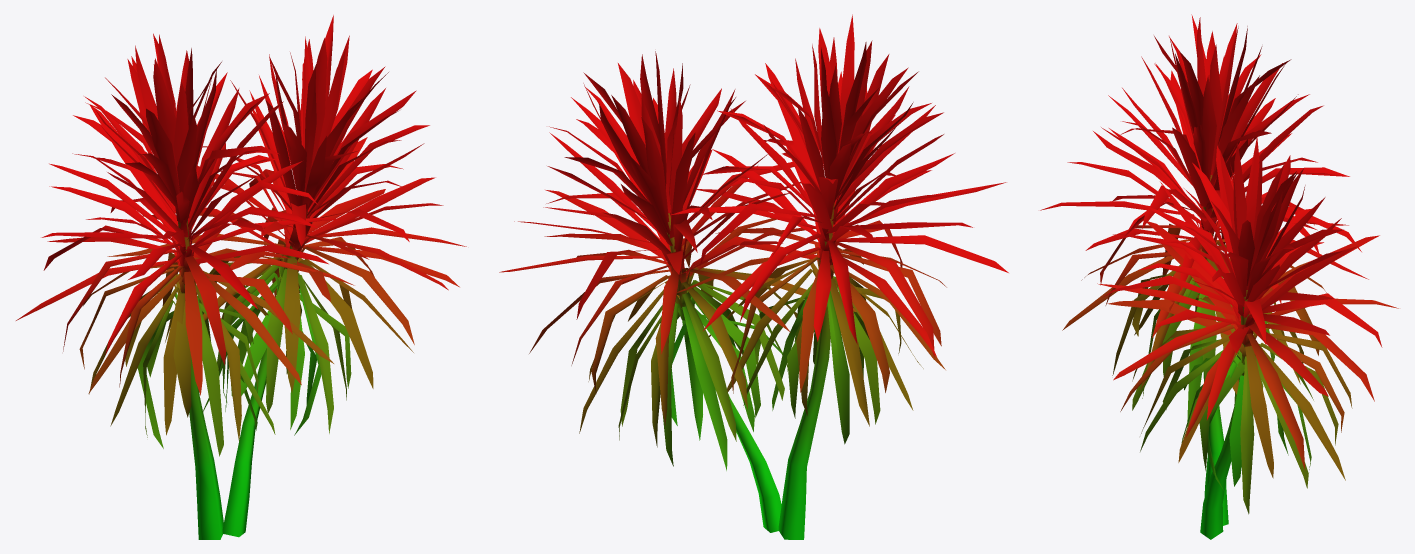
The model's file is SM_Palm04_LOD2.fbx.
The picture shows the model from 3 angles, left to right: view 1: azimuth 30°, elevation 25°; view 2: azimuth 150°, elevation 25°; view 3: azimuth 270°, elevation 25°; orthographic projection. The views are drawn at different scales.
Visible parts, largest first — view 1: _pk0z_Var5_LOD5; view 2: _pk0z_Var5_LOD5; view 3: _pk0z_Var5_LOD5.
Boxes of the visible parts, x1,y1,x2,y2 form: _pk0z_Var5_LOD5: (16, 15, 466, 539); _pk0z_Var5_LOD5: (499, 14, 1008, 539); _pk0z_Var5_LOD5: (1040, 14, 1398, 539).
Size of the model in its own units: 121 by 137 by 93.07.
